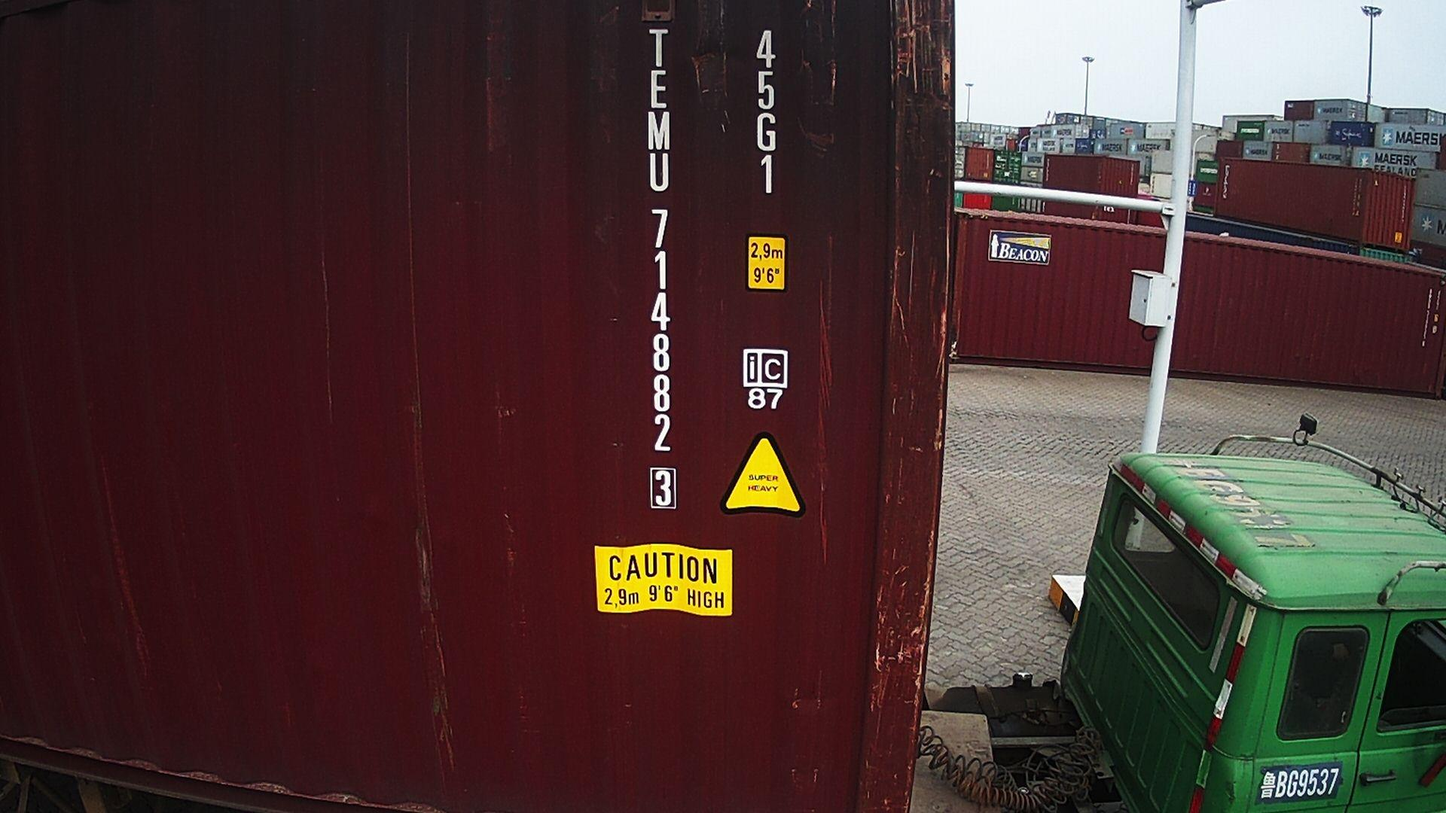container-numbers: (639, 26, 680, 514), (750, 26, 784, 199)
